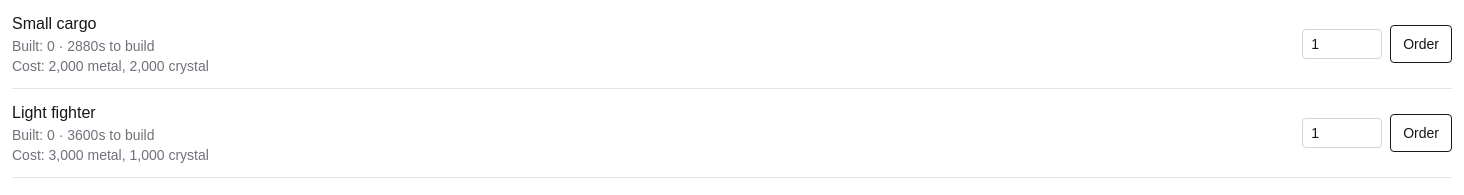
Test case: ShipyardView › disables the order button when the count is 0 or above 1000
This screenshot has width=1464, height=195.
Expected: the text "Small cargo" is shown, [12,15,96,32]
Replace the text in the number field named "Small cargo count" with "0" at (1342, 44), box [1302,29,1382,59]
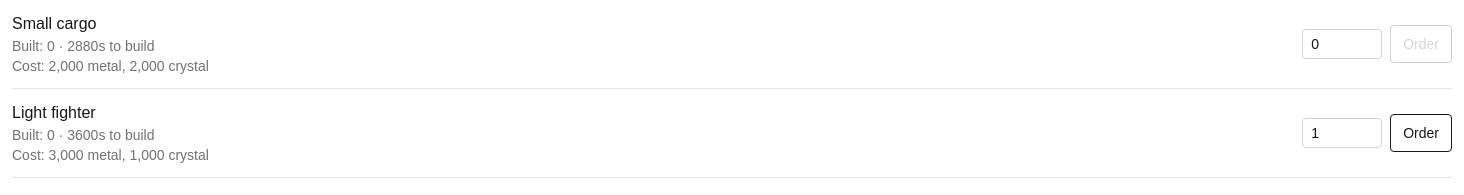
Expected: the button with aria-label "Order Small cargo" is disabled, [1390,25,1452,63]
Replace the text in the number field named "Small cargo count" with "1001" at (1342, 44), box [1302,29,1382,59]
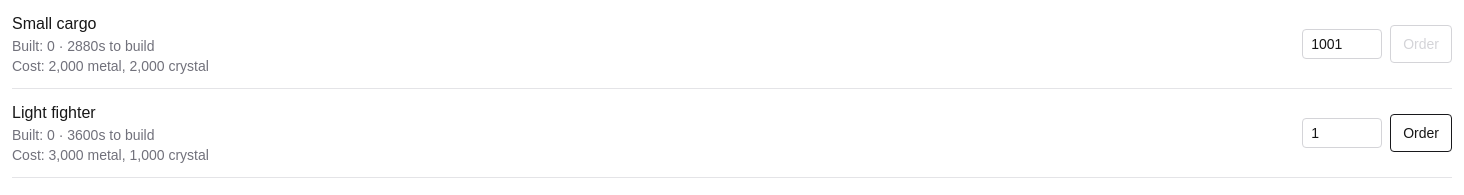
Expected: the button with aria-label "Order Small cargo" is disabled, [1390,25,1452,63]
Replace the text in the number field named "Small cargo count" with "1000" at (1342, 44), box [1302,29,1382,59]
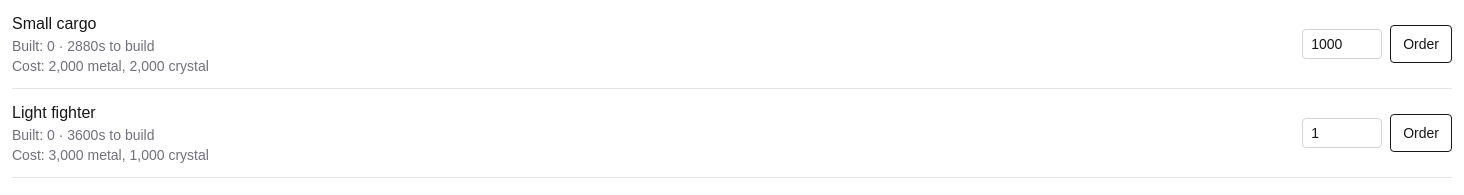
Expected: the button with aria-label "Order Small cargo" is enabled, [1390,25,1452,63]
